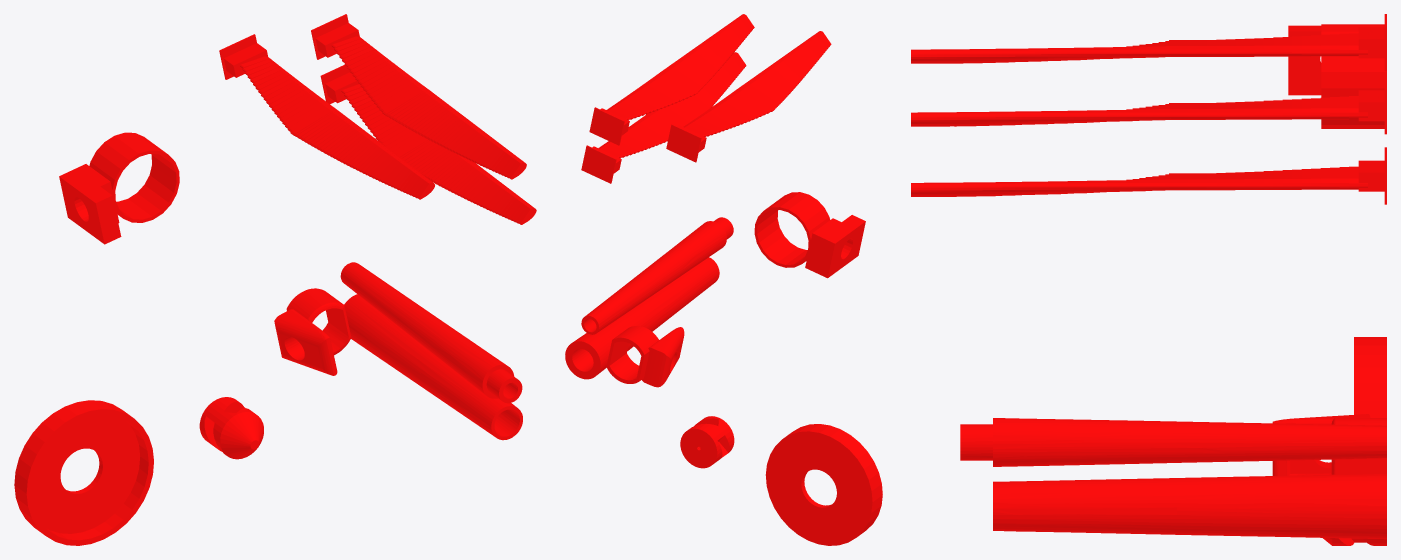
3 views of the same model, side by side, from view 1: azimuth 30°, elevation 25°; view 2: azimuth 150°, elevation 25°; view 3: azimuth 270°, elevation 25° (orthographic). The views are drawn at different scales.
Visible parts, largest first — view 1: entity_2; view 2: entity_2; view 3: entity_2.
Boxes of the visible parts, x1,y1,x2,y2 form: entity_2: [14, 14, 536, 545]; entity_2: [565, 14, 882, 545]; entity_2: [911, 14, 1386, 545].
Bounding box in the file's own units: 173 × 206 × 145.
